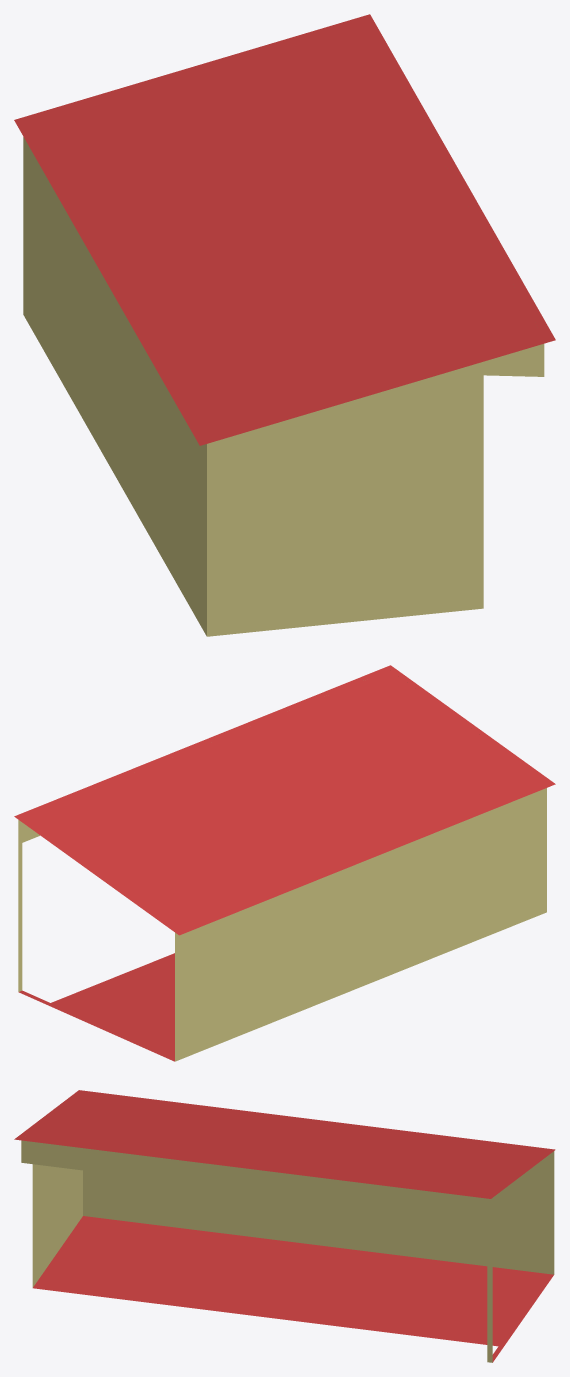
3 views of the same model, one above another, from view 1: azimuth 30°, elevation 25°; view 2: azimuth 150°, elevation 25°; view 3: azimuth 270°, elevation 25° (orthographic). The views are drawn at different scales.
Size of the model in its own units: 14.95 by 22.45 by 7.6.
